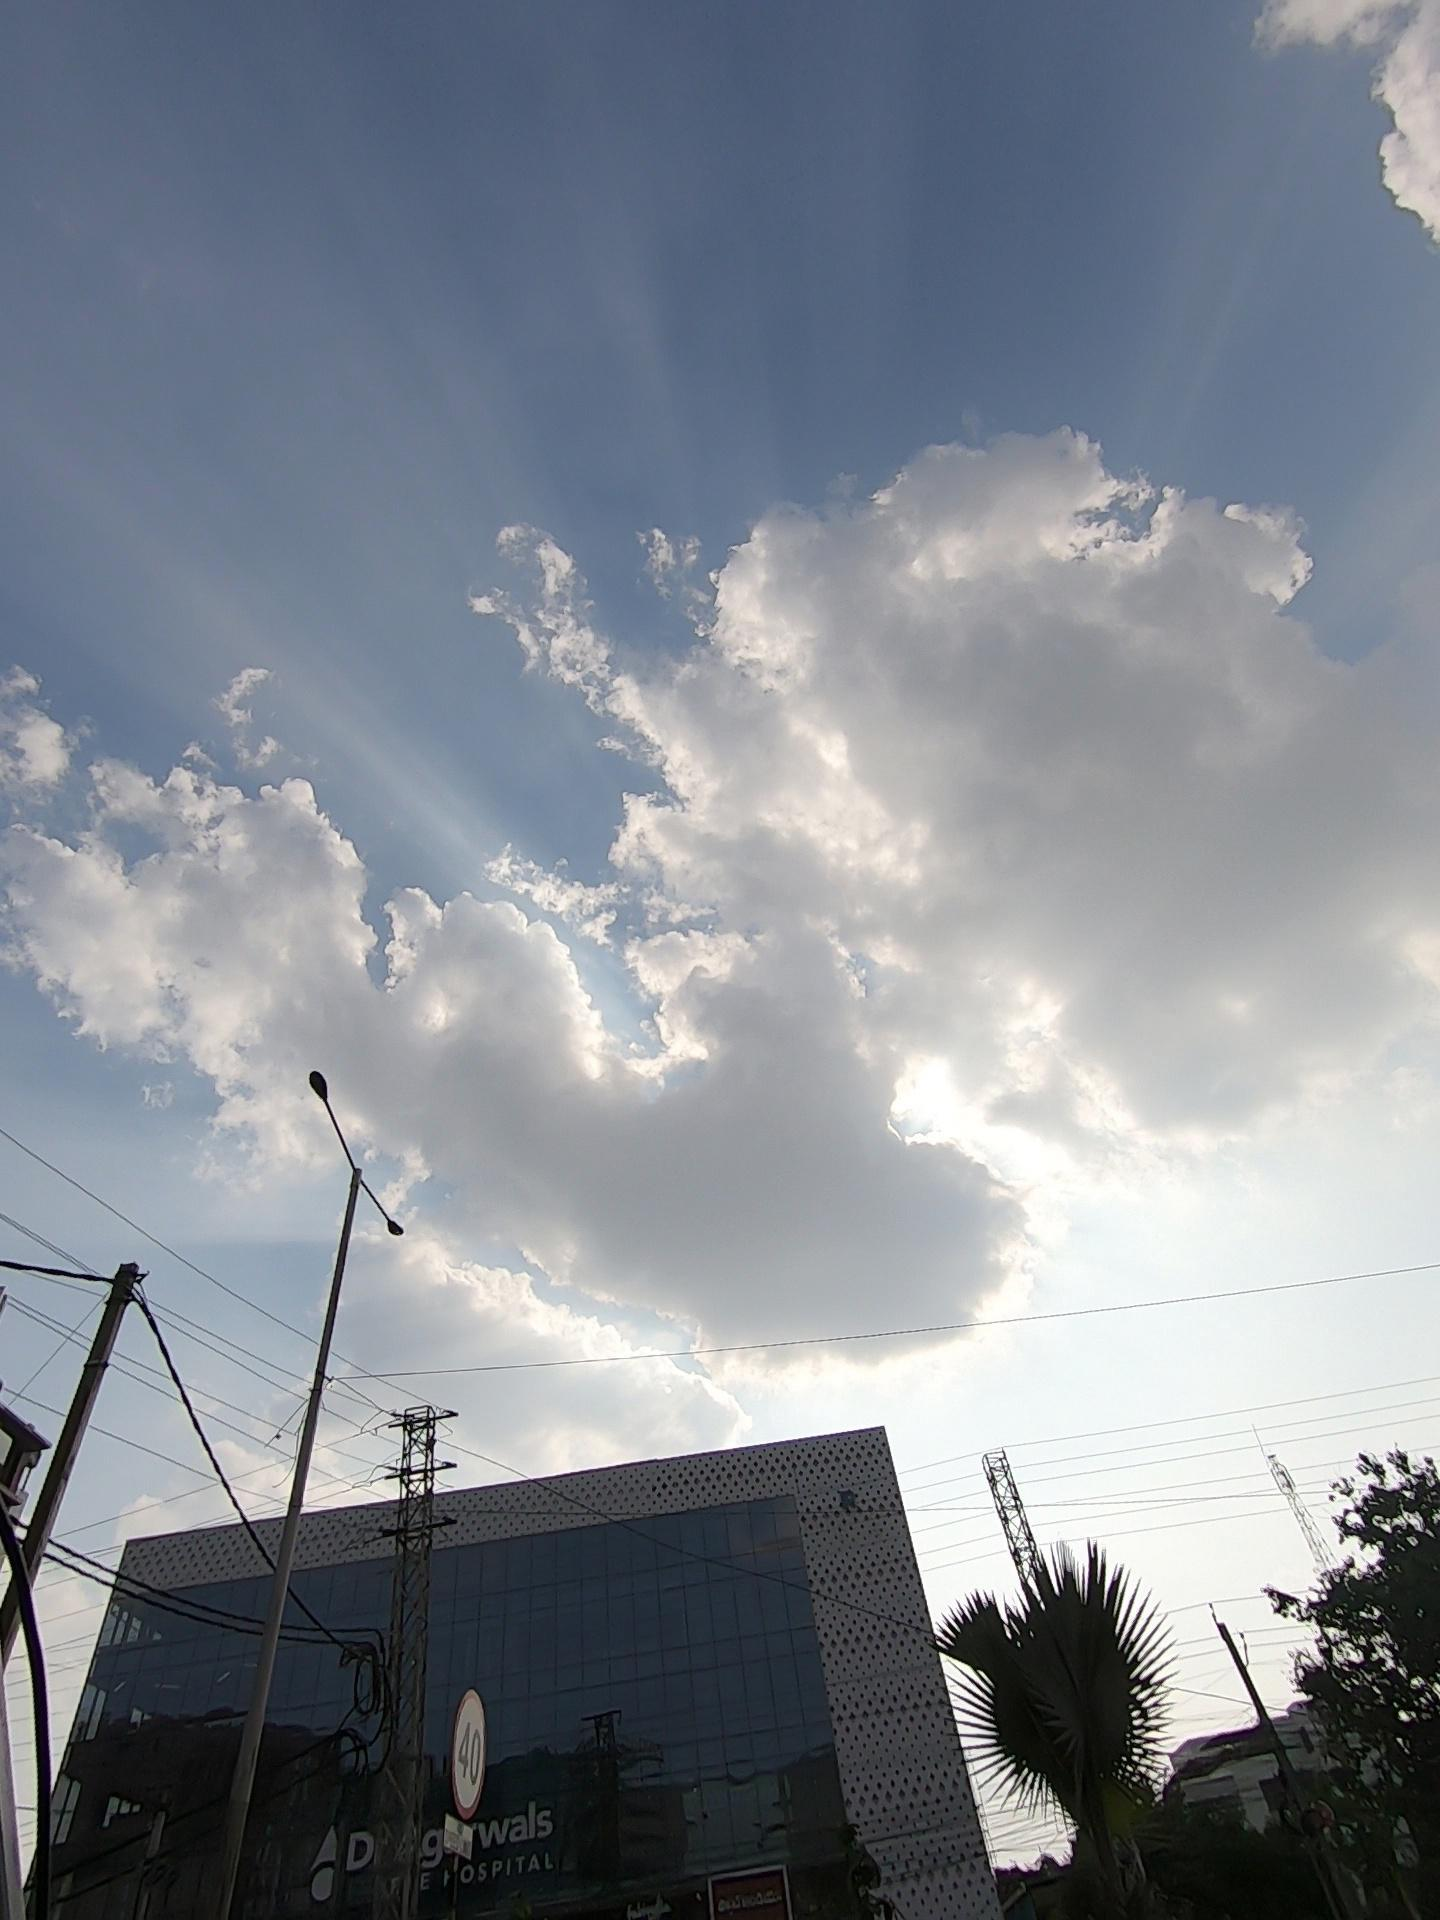off: (275, 1020, 496, 1320)
